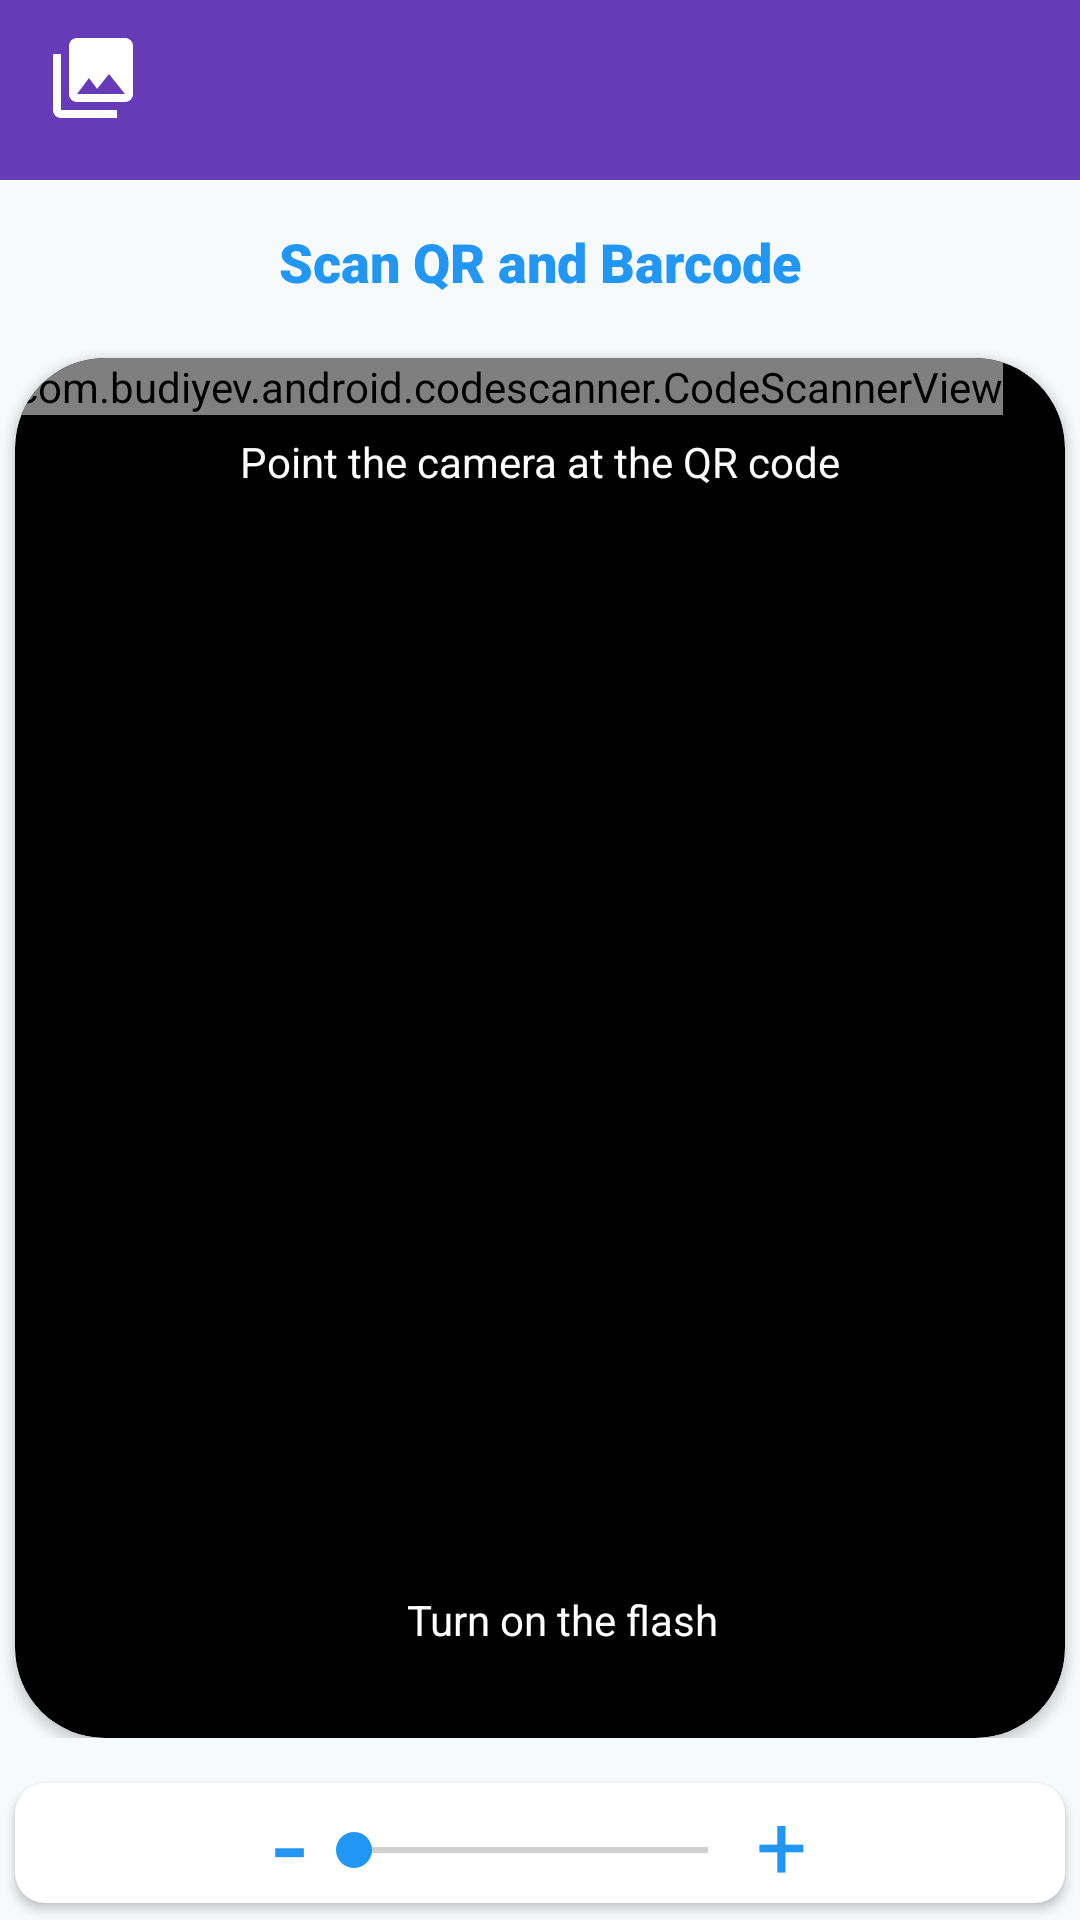

Named icons in this screenshot (1080 × 1920) and their centers, [x,y]:
gallery: [93,78]
